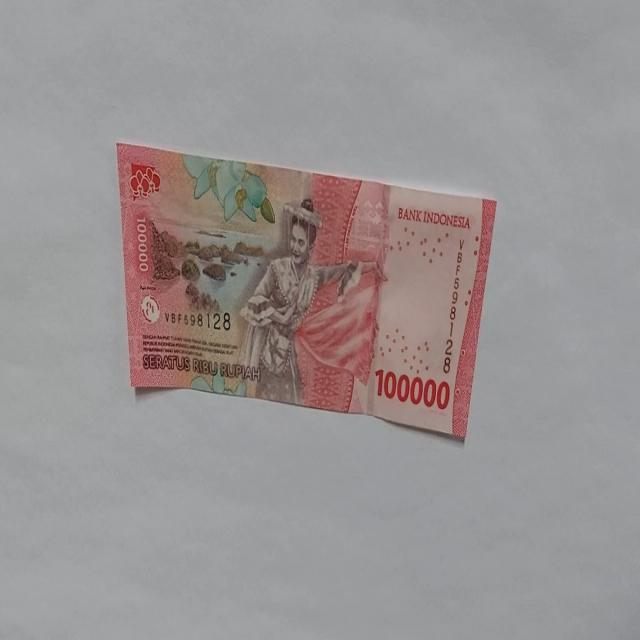seratus ribu rupiah: (115, 141, 498, 443), (236, 196, 382, 410)
